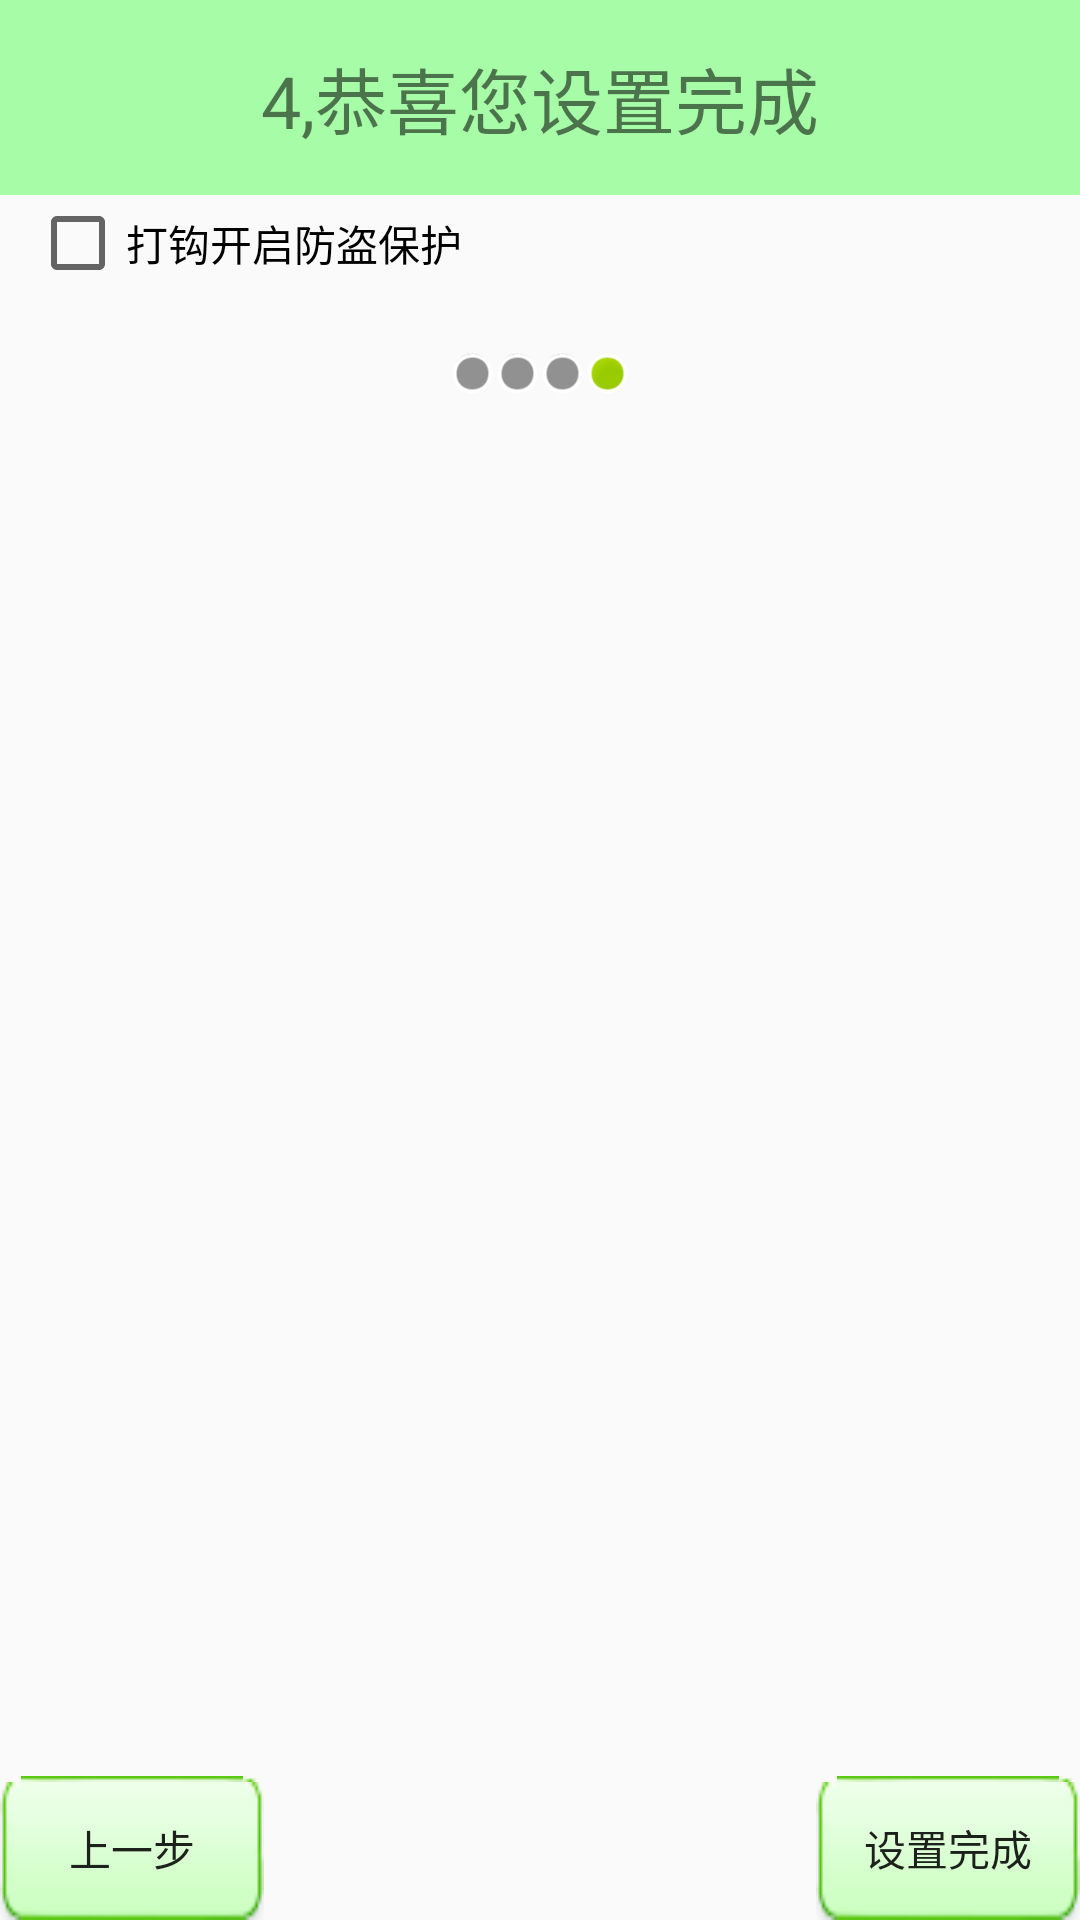

Where to tap for icons on this 1080*1920 app screen, as (x=x, y=y):
presence invisible: (x=472, y=373), (x=517, y=373), (x=562, y=373)
presence online: (x=607, y=373)
